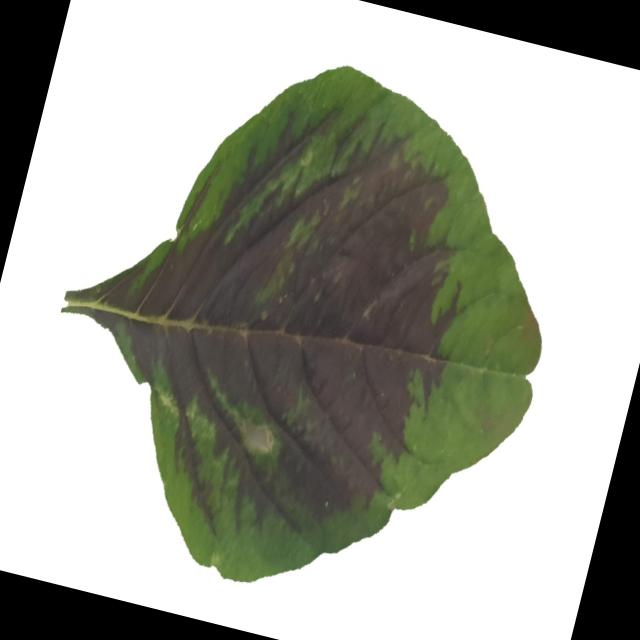Medicinal-Arive Dantu: (11, 13, 598, 639)
